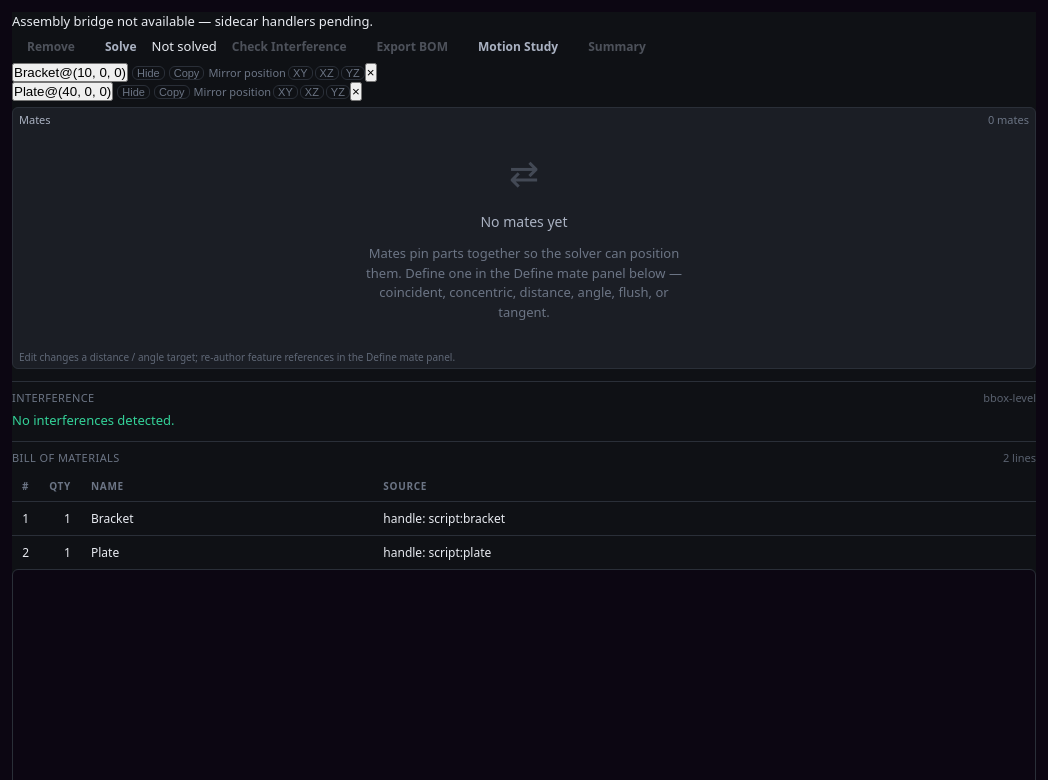
Test: AssemblyView (DOM) — Mirror position row action › appends a mirrored instance with the translation reflected across YZ (negate X)
Click the button with test id "design-assembly-part-p1-mirror-yz": (353, 72) [341,66,365,80]
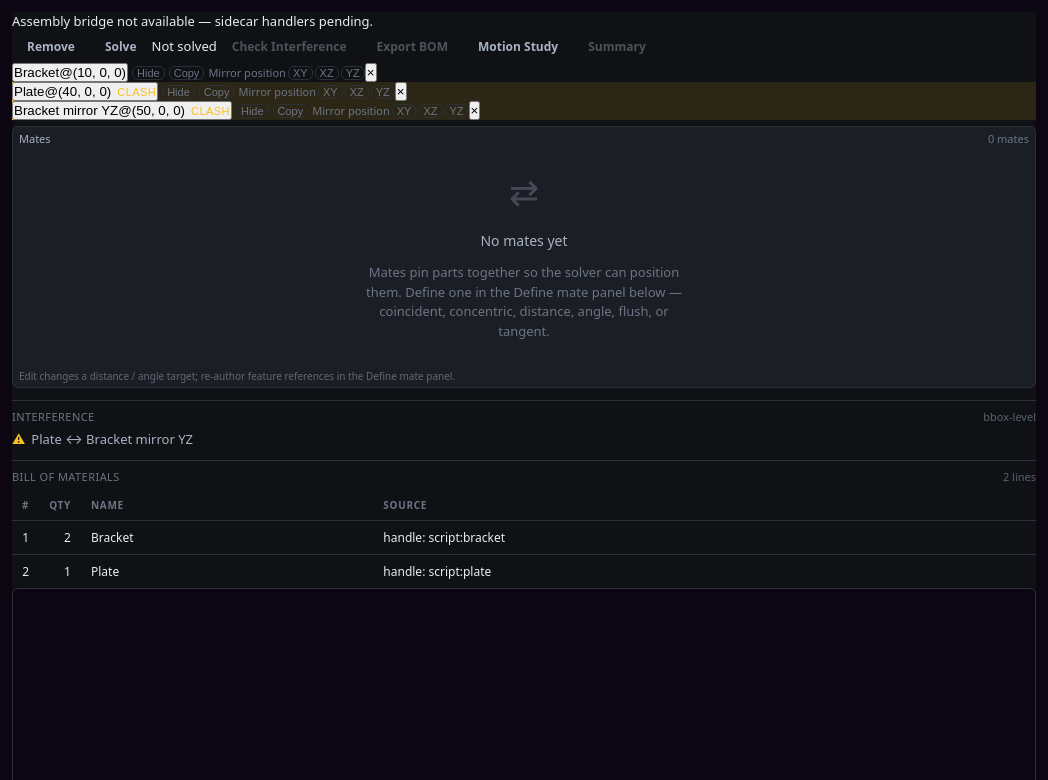
Now the text "Bracket mirror YZ" is shown, box [14,103,118,118]
